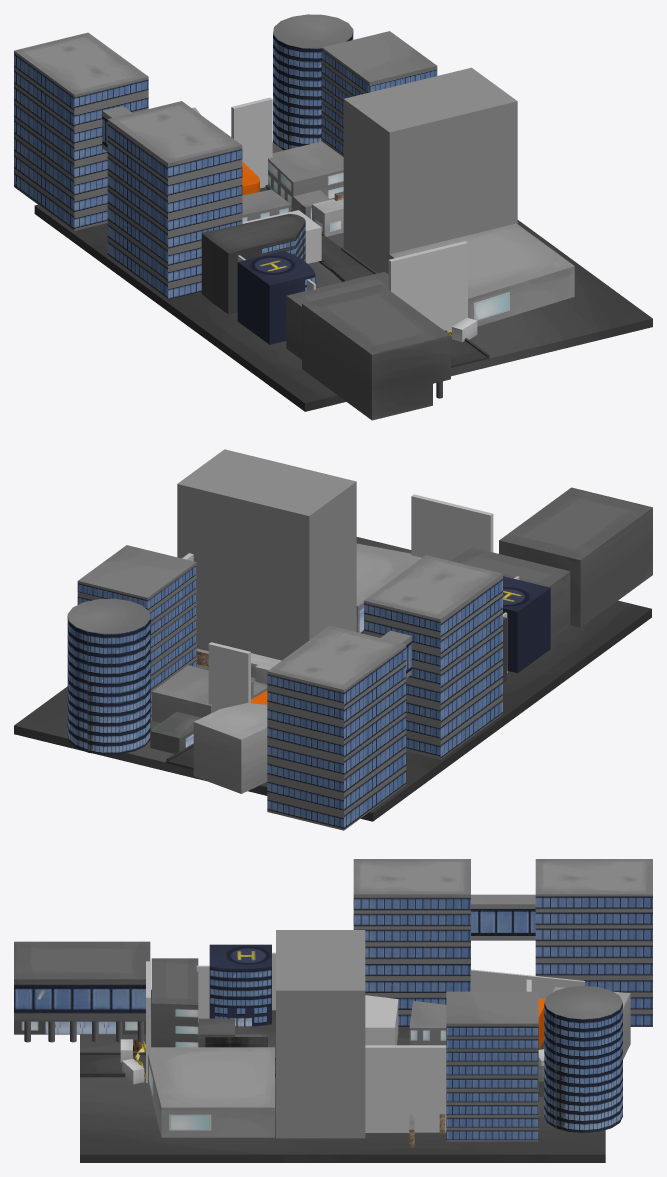
The model's file is stage1.FBX.
3 views of the same model, one above another, from view 1: azimuth 30°, elevation 25°; view 2: azimuth 150°, elevation 25°; view 3: azimuth 270°, elevation 25° (orthographic). The views are drawn at different scales.
Visible parts, largest first — view 1: Object010, Object020, Box001, Object022, Object021, Object013, Object016, Object025, Object006, Object024, Object015, Object001 (+4 smaller); view 2: Object010, Object020, Object022, Object013, Box001, Object016, Object011, Object006, Object024, Object015, Object001, Object021 (+2 smaller); view 3: Object010, Box001, Object020, Object022, Object016, Object021, Object013, Object002, Object024, Object007, Object026, Object027 (+7 smaller).
Part boxes in pixels (x1,y1,x2,y2): Object010: (14, 32, 242, 299); Object020: (343, 67, 517, 274); Box001: (34, 204, 652, 411); Object022: (286, 271, 450, 420); Object021: (389, 223, 574, 326); Object013: (273, 14, 353, 150); Object016: (322, 31, 437, 156); Object025: (201, 214, 305, 314); Object006: (388, 241, 467, 332); Object024: (237, 251, 315, 344); Object015: (268, 141, 343, 219); Object001: (231, 97, 272, 188); Object010: (267, 555, 502, 830); Object020: (177, 449, 356, 660); Object022: (450, 487, 652, 639); Object013: (67, 598, 150, 754); Box001: (14, 537, 651, 821); Object016: (77, 545, 196, 720); Object011: (193, 703, 267, 793); Object006: (411, 494, 493, 560); Object024: (503, 576, 550, 673); Object015: (152, 665, 267, 722); Object001: (208, 642, 250, 712); Object021: (356, 543, 421, 632); Object010: (353, 859, 652, 1026); Box001: (80, 989, 605, 1162); Object020: (276, 930, 365, 1138); Object022: (14, 941, 198, 1047); Object016: (446, 991, 538, 1141); Object021: (148, 1047, 274, 1137); Object013: (544, 986, 622, 1132); Object002: (365, 1045, 446, 1132); Object024: (209, 944, 271, 1026); Object007: (470, 969, 584, 998); Object026: (365, 995, 398, 1045); Object027: (409, 1001, 446, 1045).
Size of the model in its own units: 3810 by 1765 by 6238.
